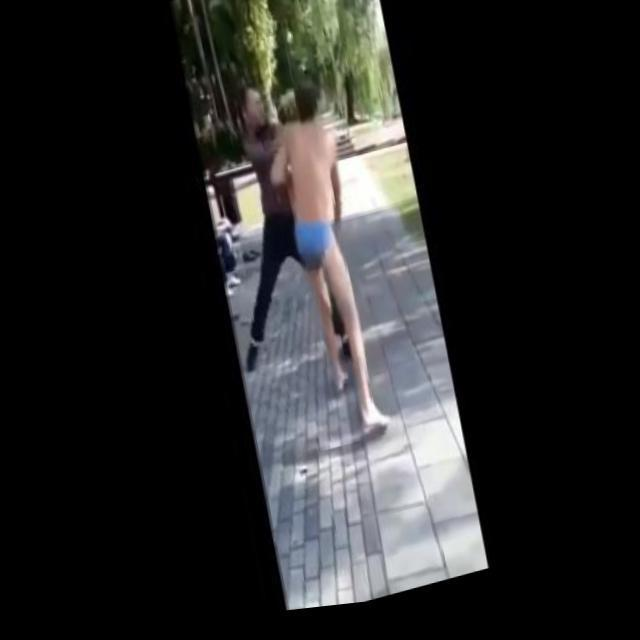fight: (200, 72, 394, 470)
